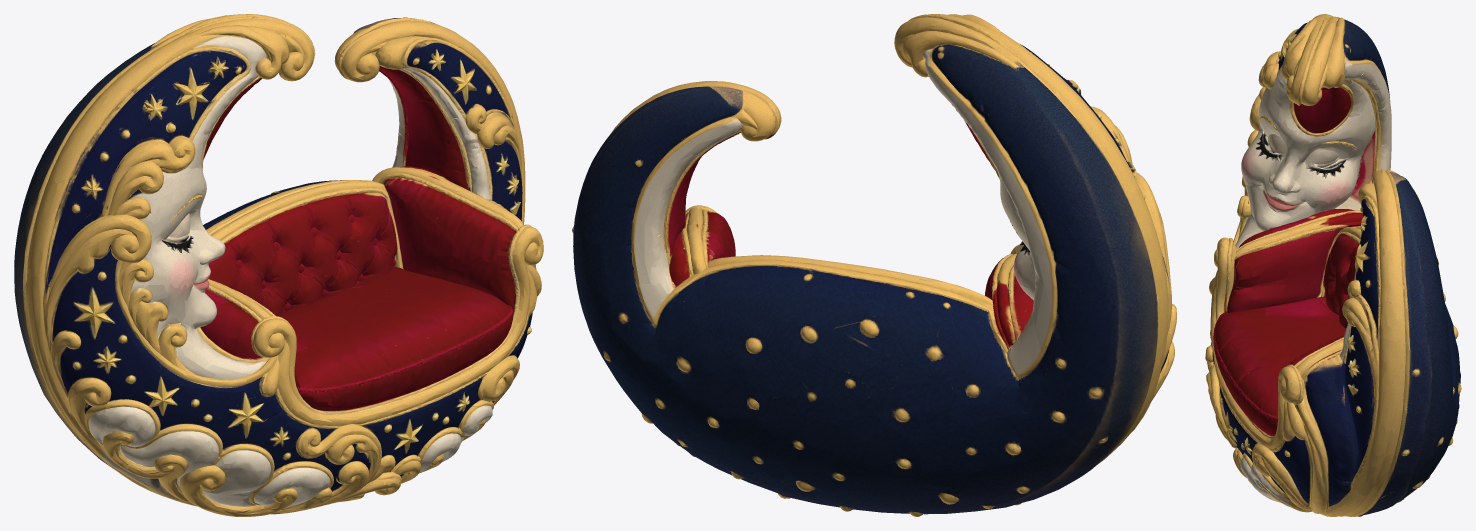
File: moon-loveseat.glb
3 renders of one model, left to right at view 1: azimuth 30°, elevation 25°; view 2: azimuth 150°, elevation 25°; view 3: azimuth 270°, elevation 25°, orthographic. The views are drawn at different scales.
Bounding box in the file's own units: 1.9 × 1.68 × 0.9328.
1 material, 1 textured.
